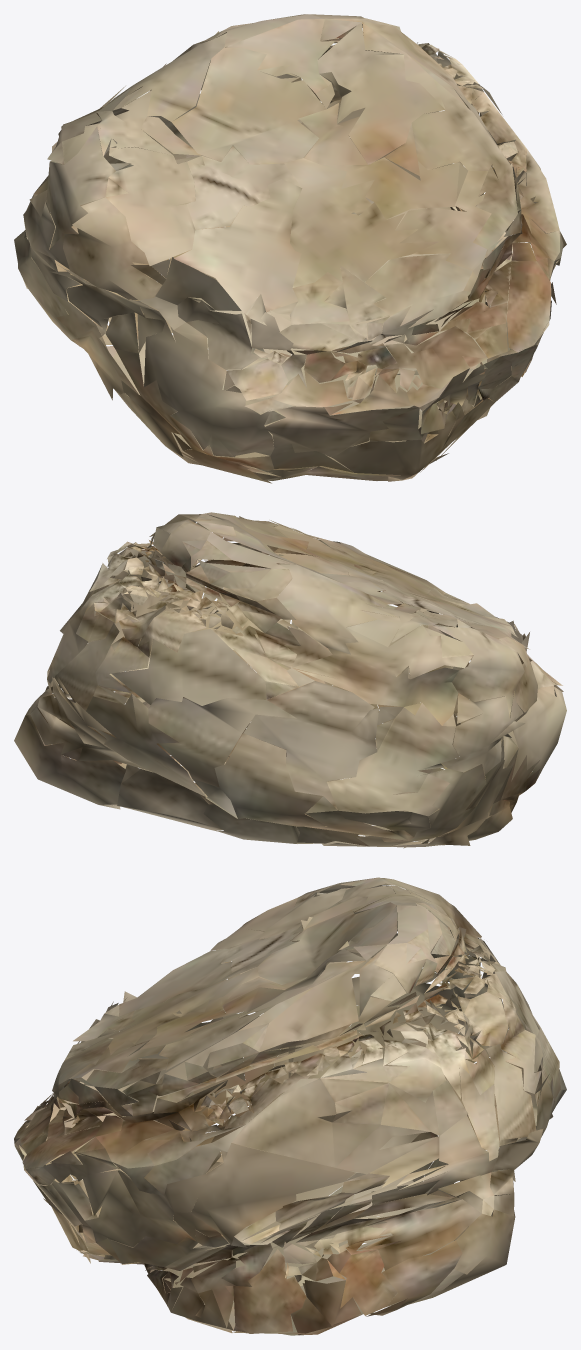
File: rock_large.glb
3 views of the same model, one above another, from view 1: azimuth 30°, elevation 25°; view 2: azimuth 150°, elevation 25°; view 3: azimuth 270°, elevation 25° (orthographic). The views are drawn at different scales.
Parts seen in each view (by area): view 1: Mesh_0; view 2: Mesh_0; view 3: Mesh_0.
Part boxes in pixels (left/top/right/bottom): Mesh_0: left=14, top=14, right=566, bottom=483; Mesh_0: left=14, top=512, right=566, bottom=848; Mesh_0: left=14, top=877, right=566, bottom=1335.
Size of the model in its own units: 1.89 by 1.33 by 1.9.
1 material, 1 textured.
